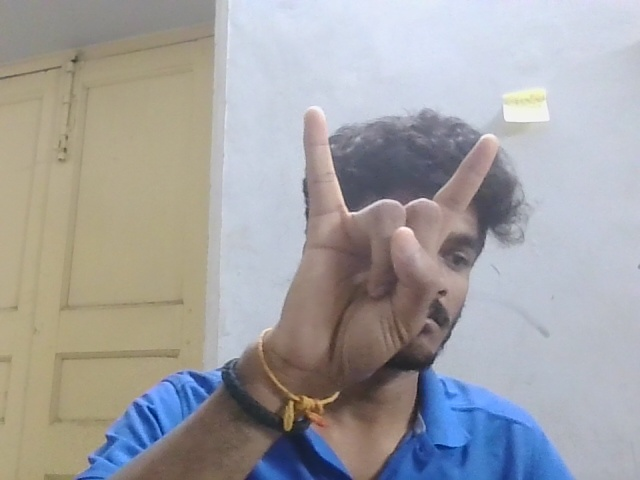Iloveyou: (262, 99, 507, 392)
